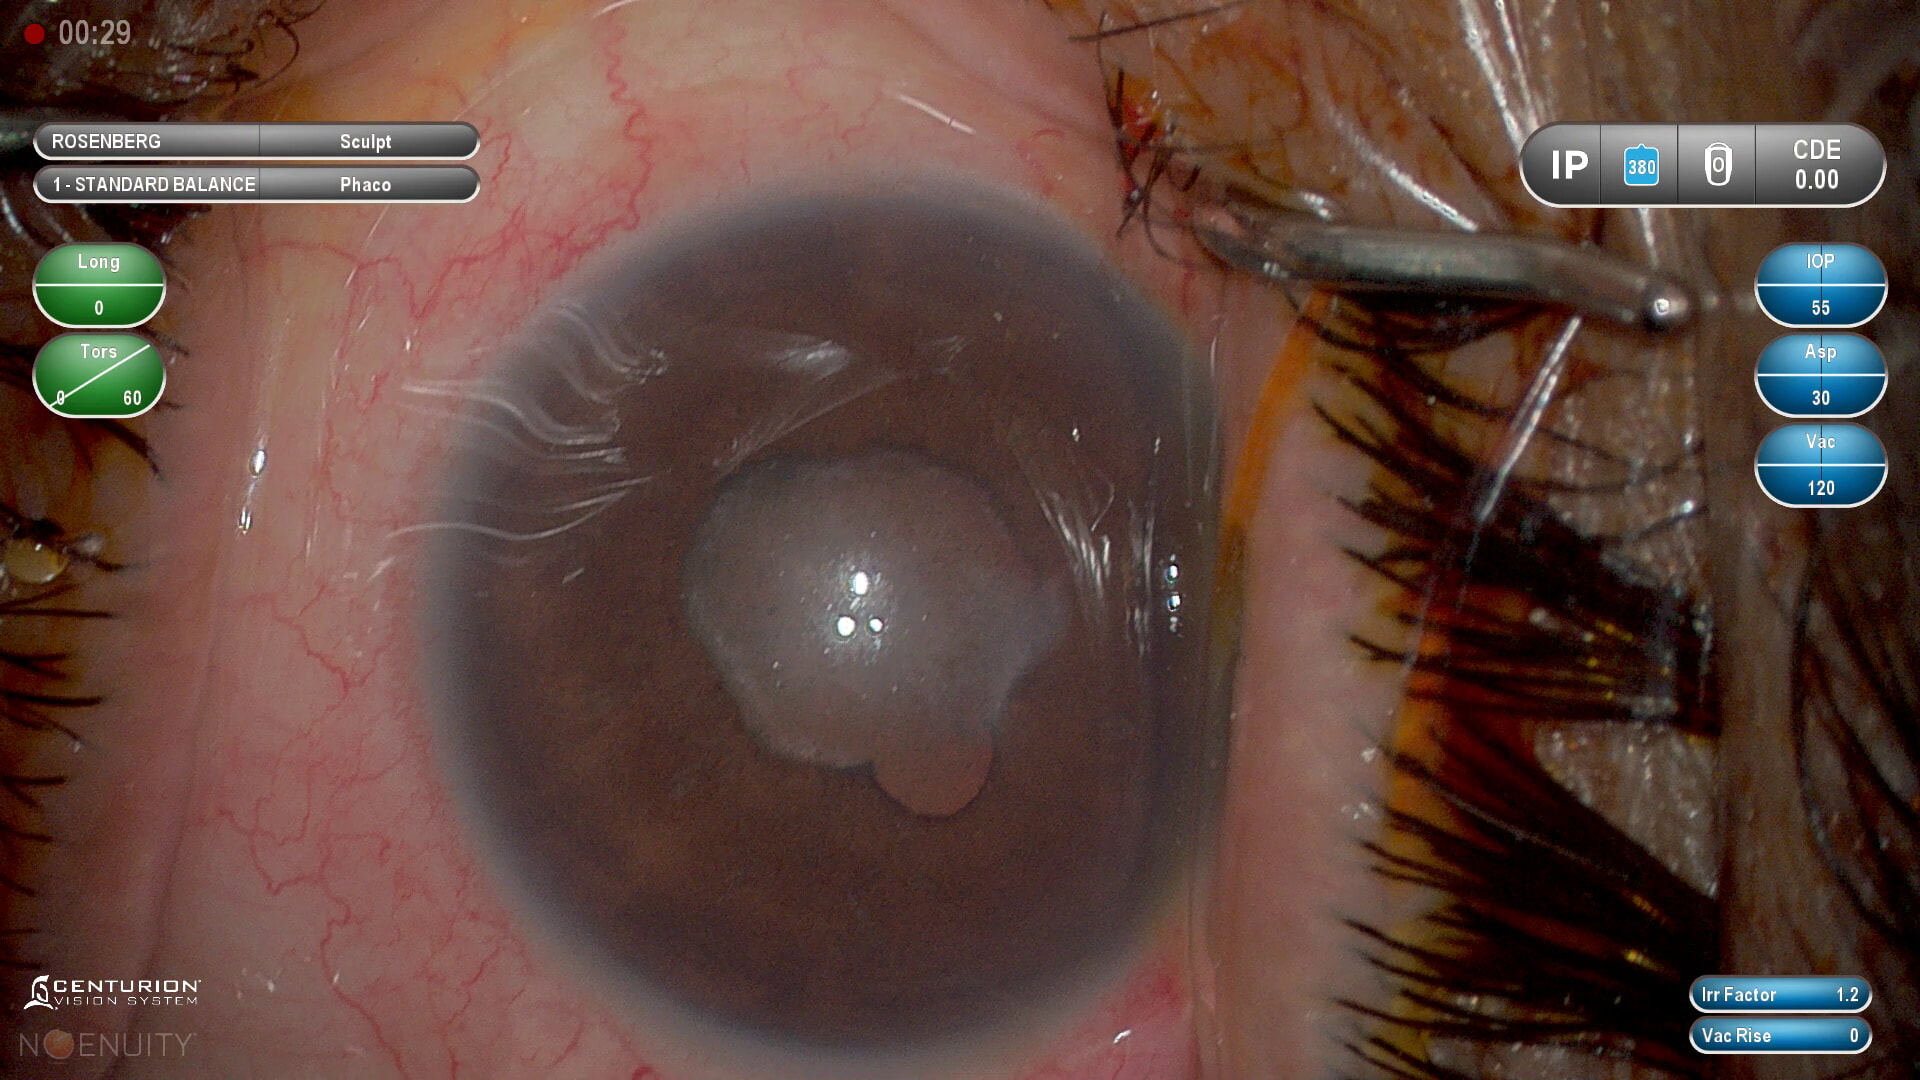iris: (467, 216, 1242, 1041)
pupil: (683, 441, 1074, 826)
